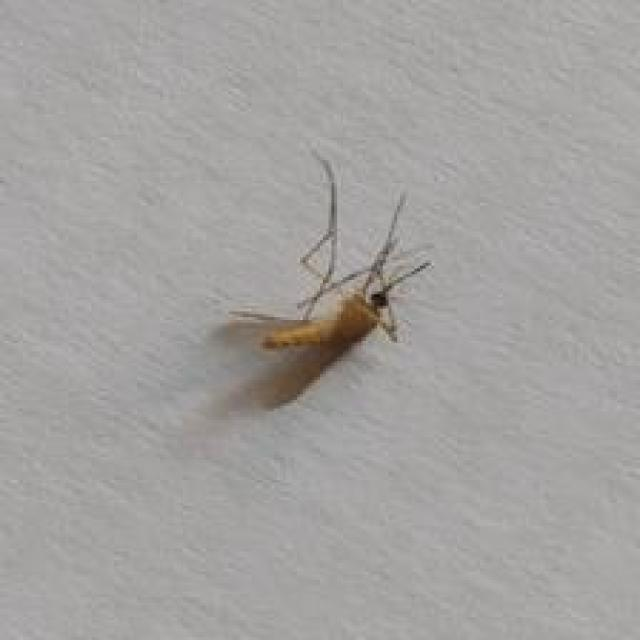Culex: (227, 147, 433, 362)
